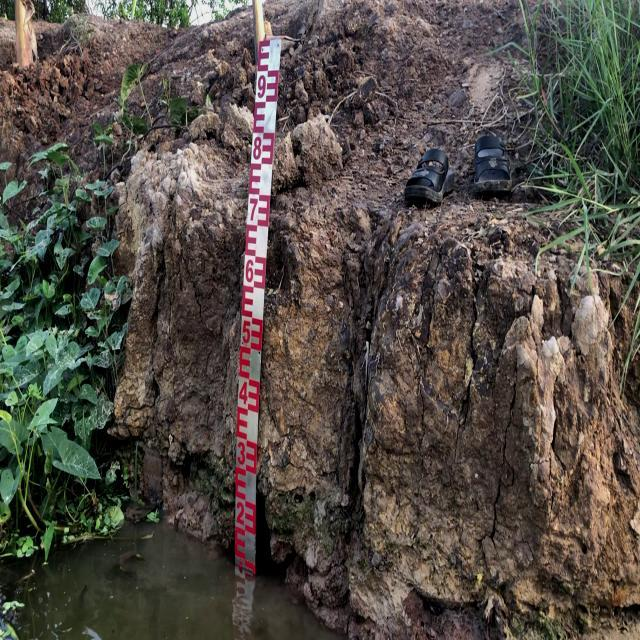ruler: (228, 0, 286, 572)
value: (250, 132, 264, 165), (245, 193, 259, 226), (253, 71, 267, 104), (242, 257, 256, 289), (234, 497, 247, 528), (236, 439, 248, 469), (238, 378, 250, 408), (240, 317, 252, 347)
